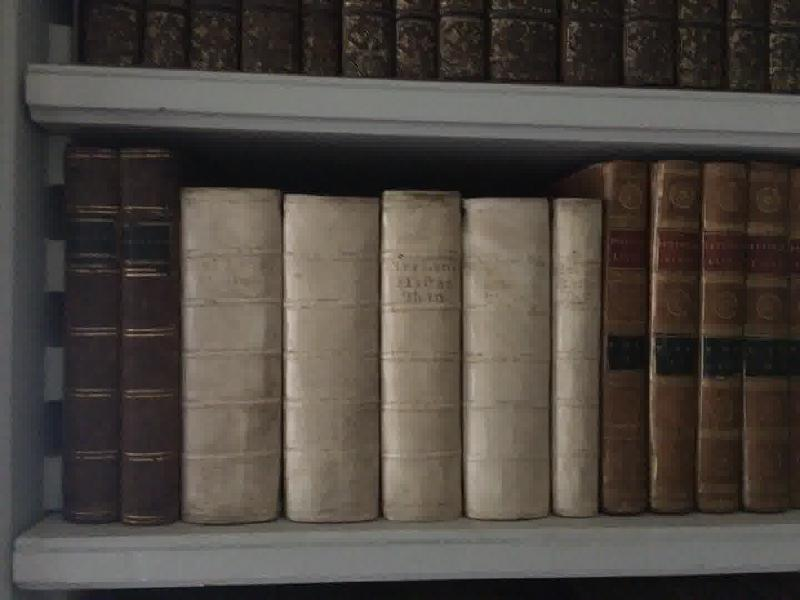Kk4-1_2: (58, 141, 183, 539)
Kk4-3_7: (174, 179, 607, 532)
Kk4-8_13: (595, 156, 800, 521)
